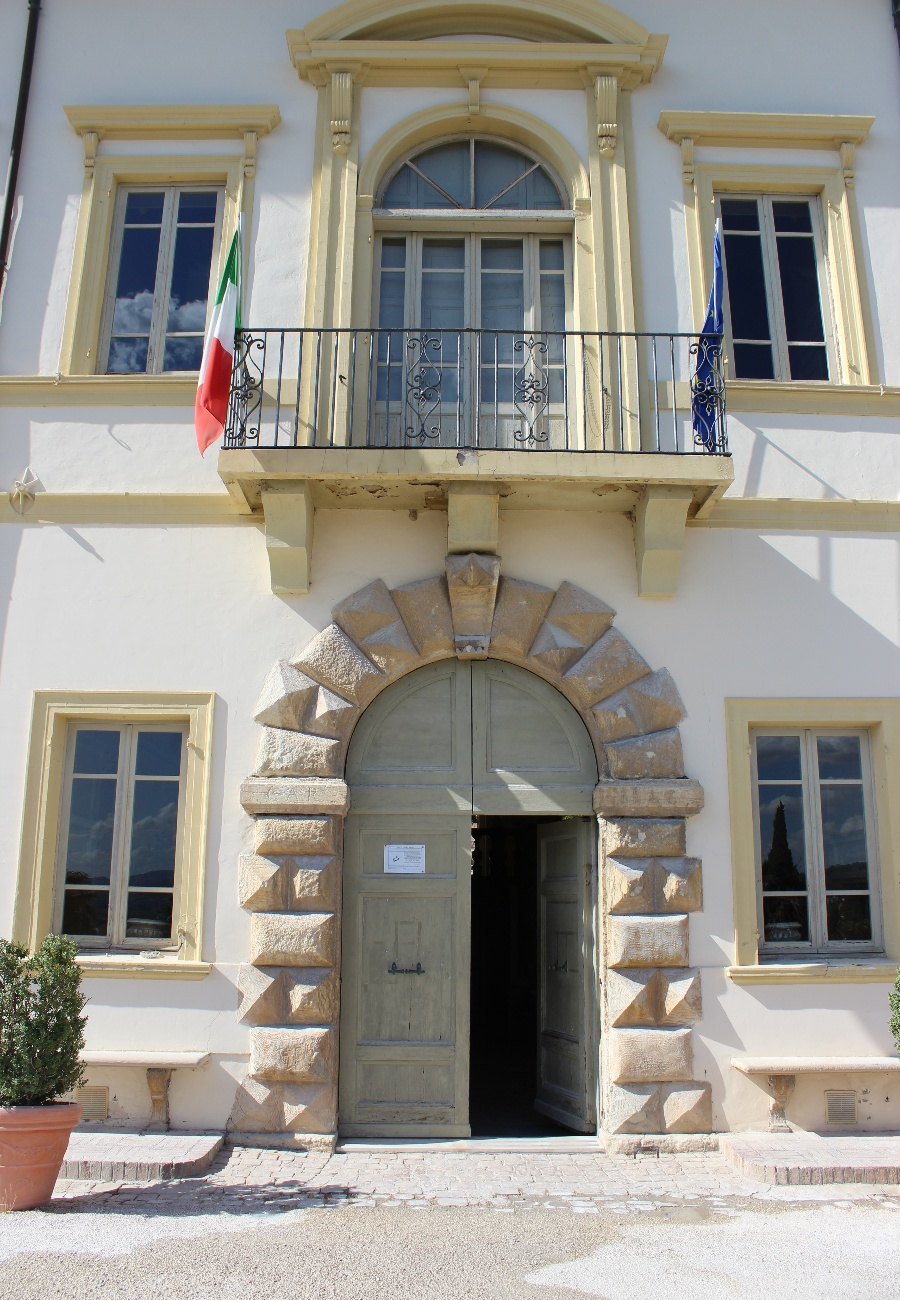Villa Caprile: (1, 1, 893, 1182)
